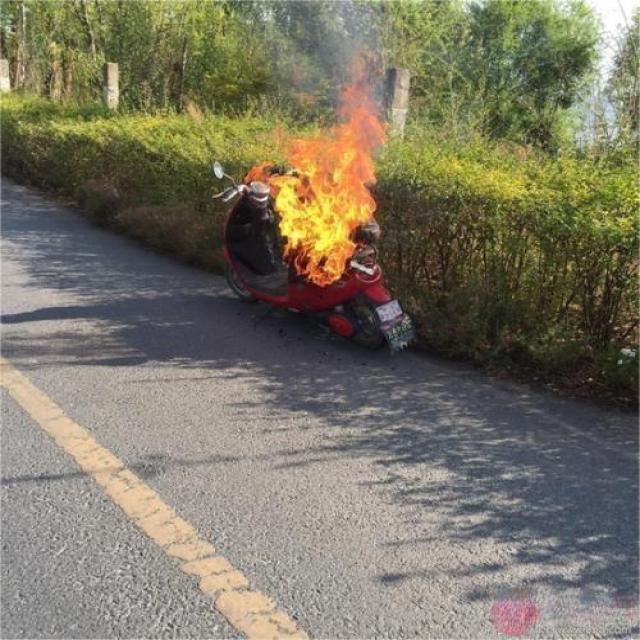Fire: (265, 96, 384, 285)
